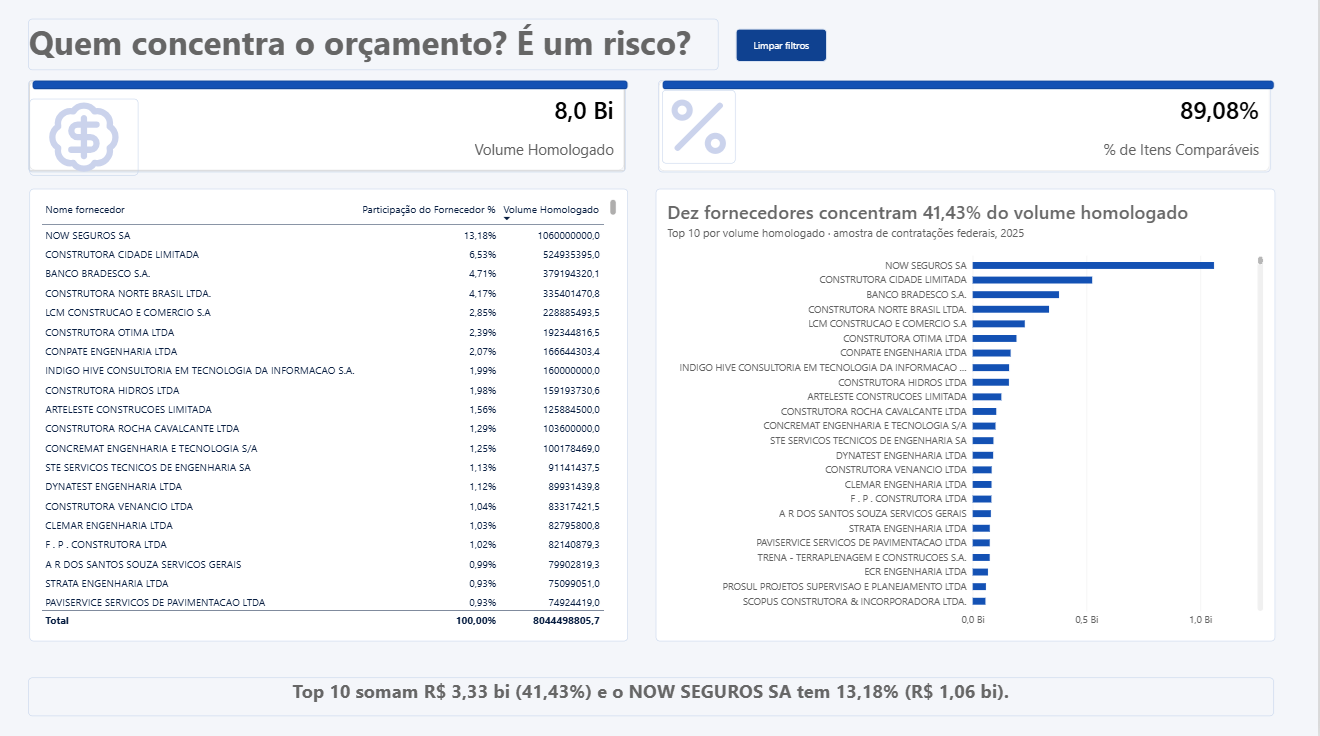

The page's visual inventory and layout, read from the dashboard file:
{"tool":"powerbi","page":{"name":"Concentração de fornecedores","canvas":[1920,1080],"ordinal":1},"visuals":[{"type":"cardVisual","title":"Volume homologado total","fields":{"Data":["Medida.Volume Homologado"]},"box":[52.5,130.3,865,133.9],"z":0},{"type":"image","box":[53.8,157.4,157.4,111.6],"z":1000},{"type":"barChart","title":"Dez fornecedores concentram 41,43% do volume homologado","fields":{"Category":["dim_fornecedor.nome_fornecedor"],"Y":["Medida.Volume Homologado"]},"box":[960.2,286.9,896.5,655.4],"z":2000},{"type":"tableEx","fields":{"Values":["dim_fornecedor.nome_fornecedor","Medida.Participação do Fornecedor %","Medida.Volume Homologado"]},"box":[53.8,286.9,866.6,655.4],"z":3000},{"type":"textbox","box":[51.8,996.1,1802.9,55.8],"z":4000},{"type":"cardVisual","fields":{"Data":["Medida.% de Itens Comparáveis"]},"box":[964.5,130.3,886.7,133.9],"z":5000},{"type":"image","box":[970,144.8,106.8,106.8],"z":6000},{"type":"textbox","box":[52.5,41.6,998.9,74.2],"z":7000},{"type":"shape","box":[57.9,130.3,863.2,14.5],"z":8000},{"type":"shape","box":[970,130.3,886.7,14.5],"z":9000},{"type":"actionButton","box":[1076.7,56.1,132,48],"z":9001}]}

Visuals, with their boxes in screenshot pixels (x1, y1, x2, y2), scaled from the page's 1920x1080 canvas onto the 1320x736 screenshot:
"Volume homologado total" cardVisual: box=[36, 89, 631, 180]
image: box=[37, 107, 145, 183]
"Dez fornecedores concentram 41,43% do volume homologado" barChart: box=[660, 196, 1276, 642]
tableEx - dim_fornecedor.nome_fornecedor x Medida.Participação do Fornecedor %: box=[37, 196, 633, 642]
textbox: box=[36, 679, 1275, 717]
cardVisual - Medida.% de Itens Comparáveis: box=[663, 89, 1273, 180]
image: box=[667, 99, 740, 171]
textbox: box=[36, 28, 723, 79]
shape: box=[40, 89, 633, 99]
shape: box=[667, 89, 1276, 99]
actionButton: box=[740, 38, 831, 71]
